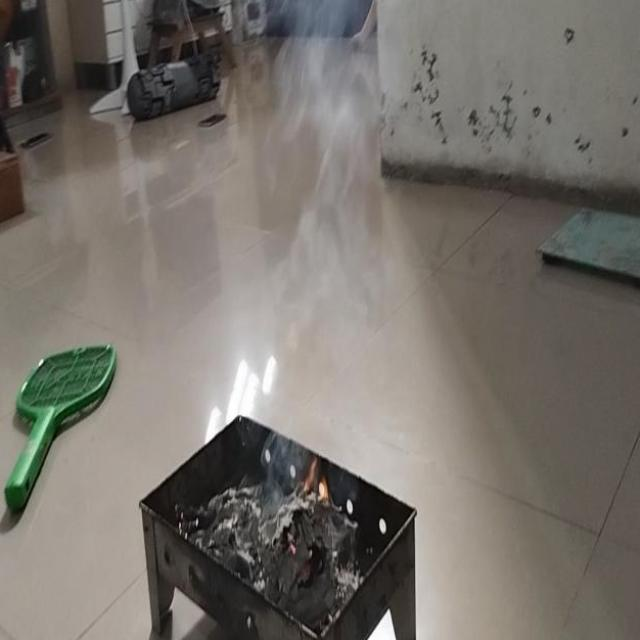fire: (254, 0, 380, 353)
smoke: (298, 455, 334, 507)
